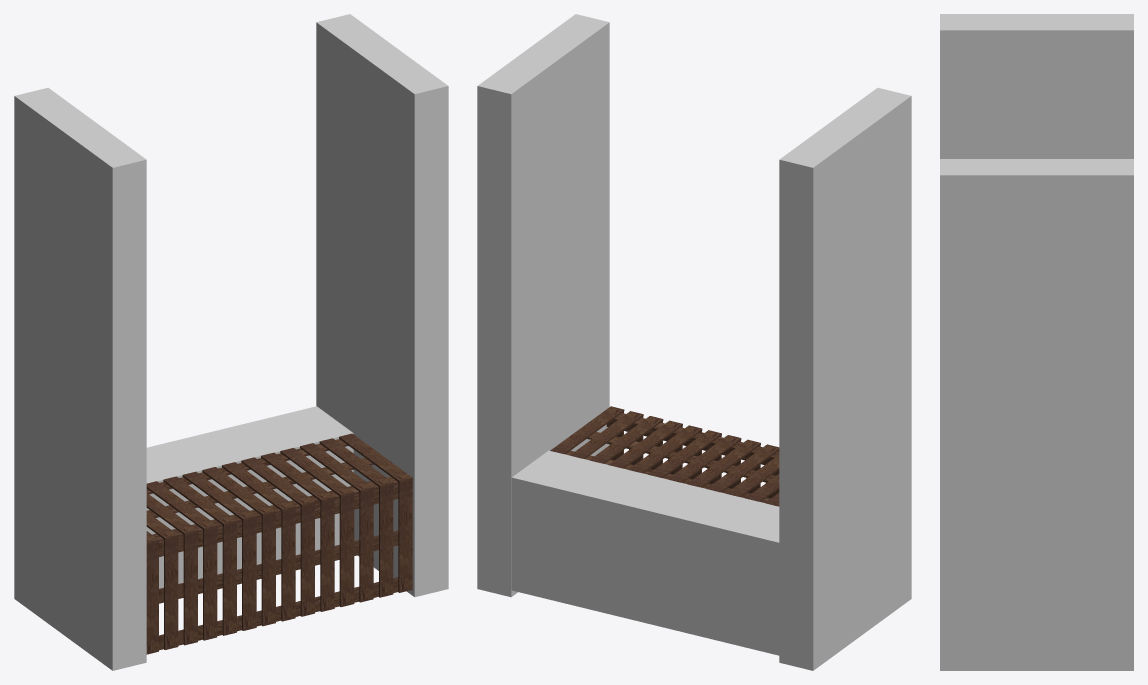
File: okno.fbx
3 renders of one model, left to right at view 1: azimuth 30°, elevation 25°; view 2: azimuth 150°, elevation 25°; view 3: azimuth 270°, elevation 25°, orthographic.
Visible parts, largest first — view 1: Cube.005, Cube.006, Cube.003, Cube, Cube.004, Cube.001, Cube.002; view 2: Cube.005, Cube.006, Cube.004, Cube, Cube.002, Cube.003; view 3: Cube.006, Cube.005.
Boxes of the visible parts, box(x1,y1,x2,y2) form: Cube.005: box(14, 87, 146, 670); Cube.006: box(316, 14, 448, 597); Cube.003: box(146, 480, 412, 654); Cube: box(146, 433, 412, 544); Cube.004: box(146, 406, 353, 588); Cube.001: box(159, 484, 398, 650); Cube.002: box(146, 439, 398, 542); Cube.005: box(779, 87, 911, 670); Cube.006: box(477, 14, 609, 597); Cube.004: box(511, 450, 779, 655); Cube: box(550, 406, 779, 506); Cube.002: box(565, 413, 779, 502); Cube.003: box(609, 412, 779, 498); Cube.006: box(940, 159, 1133, 670); Cube.005: box(940, 14, 1133, 158).
Size of the model in its own units: 753 by 1078 by 382.
Materials: 4 (4 with a texture image).
